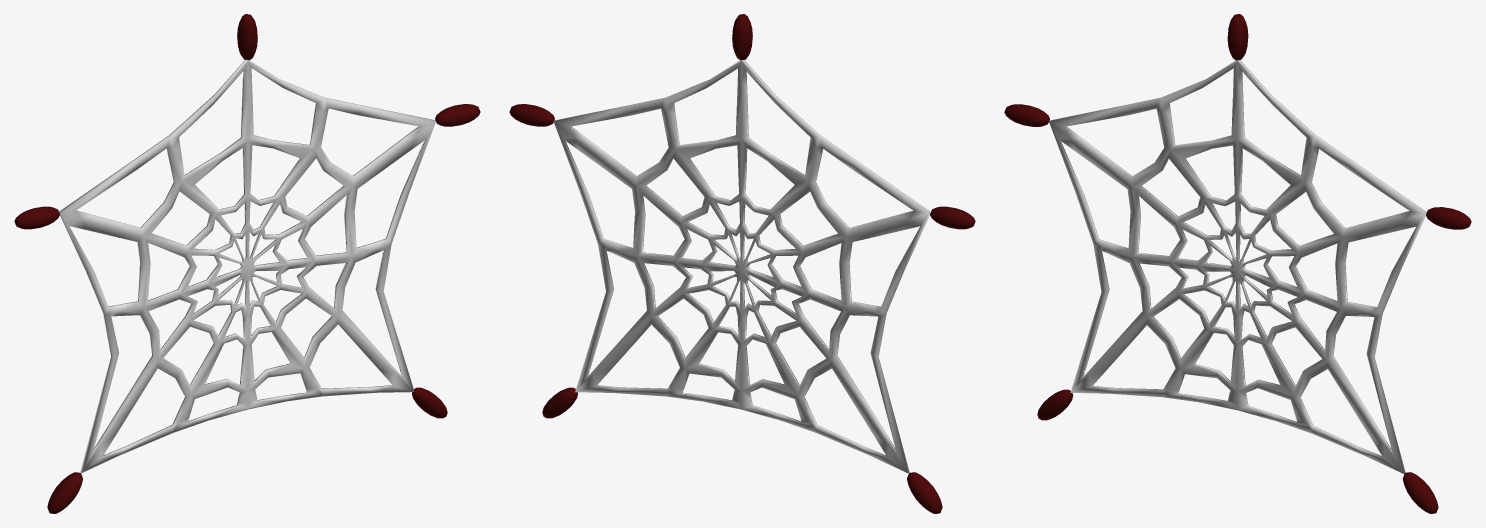
The model's file is ThrowingNet.FBX.
3 renders of one model, left to right at view 1: azimuth 30°, elevation 25°; view 2: azimuth 150°, elevation 25°; view 3: azimuth 330°, elevation 25°, orthographic.
Visible parts, largest first — view 1: WhiteThrowingNet, RedPartsOfNet; view 2: WhiteThrowingNet, RedPartsOfNet; view 3: WhiteThrowingNet, RedPartsOfNet.
Boxes of the visible parts, x1,y1,x2,y2 form: WhiteThrowingNet: (59,60,435,473); RedPartsOfNet: (14,14,480,513); WhiteThrowingNet: (553,60,930,473); RedPartsOfNet: (509,14,975,513); WhiteThrowingNet: (1049,60,1426,473); RedPartsOfNet: (1004,14,1471,513).
Bounding box in the file's own units: 15.48 × 14.4 × 0.6458.
